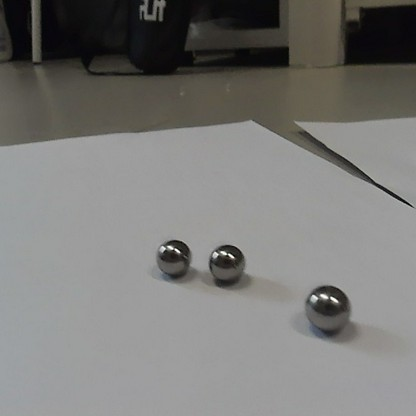ironball: (300, 283, 354, 334), (207, 243, 246, 287), (154, 238, 192, 281)
